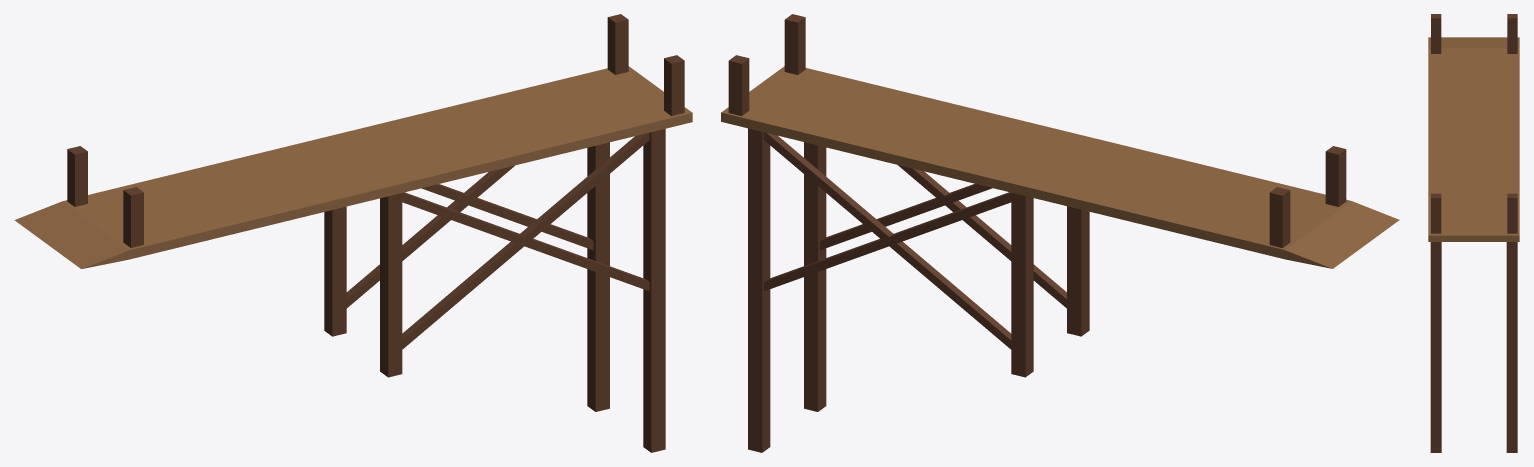
File: Dock.dae
3 renders of one model, left to right at view 1: azimuth 30°, elevation 25°; view 2: azimuth 150°, elevation 25°; view 3: azimuth 270°, elevation 25°, orthographic. The views are drawn at different scales.
Parts seen in each view (by area): view 1: Cube; view 2: Cube; view 3: Cube.
Part boxes in pixels (box(x1,y1,x2,y2)): Cube: box(14, 14, 692, 452); Cube: box(721, 14, 1399, 452); Cube: box(1428, 14, 1519, 452).
Bounding box in the file's own units: 12.02 × 2.28 × 7.22.
1 material, 1 textured.
